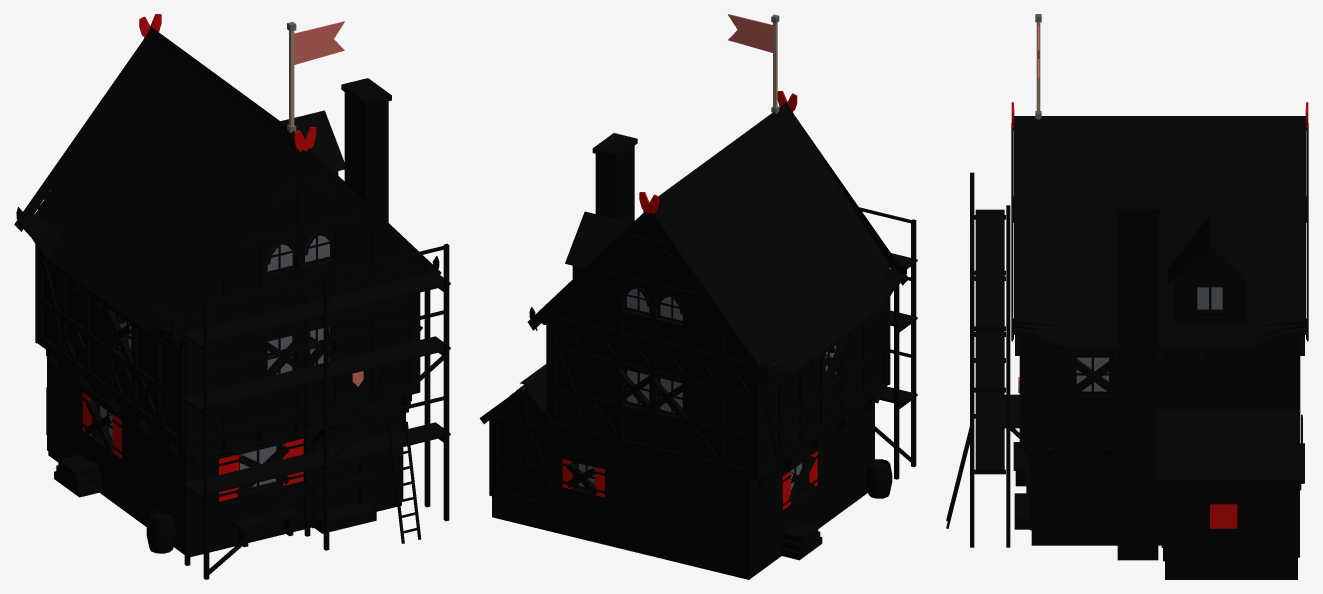
The model's file is wohnhaus_elb_s2_g2.glb.
3 renders of one model, left to right at view 1: azimuth 30°, elevation 25°; view 2: azimuth 150°, elevation 25°; view 3: azimuth 270°, elevation 25°, orthographic. The views are drawn at different scales.
Parts seen in each view (by area): view 1: Haus, Dach, Geruest, Leerstand, Fahne, Scheiben; view 2: Haus, Dach, Geruest, Leerstand, Fahne, Scheiben; view 3: Dach, Haus, Geruest, Leerstand, Scheiben, Fahne.
Boxes of the visible parts, x1,y1,x2,y2 form: Haus: (35, 43, 420, 557); Dach: (14, 14, 441, 345); Geruest: (183, 243, 450, 579); Leerstand: (85, 309, 369, 499); Fahne: (287, 21, 344, 132); Scheiben: (100, 234, 329, 487); Haus: (489, 117, 892, 579); Dach: (479, 91, 908, 431); Geruest: (859, 207, 917, 479); Leerstand: (566, 338, 849, 502); Fahne: (728, 14, 779, 113); Scheiben: (578, 288, 836, 489); Dach: (1011, 102, 1308, 483); Haus: (1000, 131, 1301, 579); Geruest: (946, 172, 1010, 547); Leerstand: (1015, 335, 1304, 496); Scheiben: (1076, 287, 1222, 391); Fahne: (1035, 14, 1041, 119).
Size of the model in its own units: 7.99 by 11.75 by 8.03.
